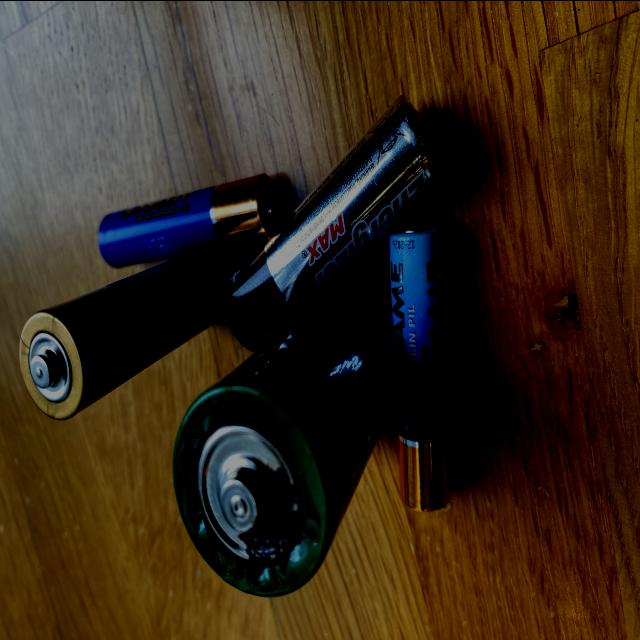AA: (218, 91, 448, 356), (17, 242, 228, 425)
AAA: (387, 221, 453, 516), (93, 168, 280, 270)
